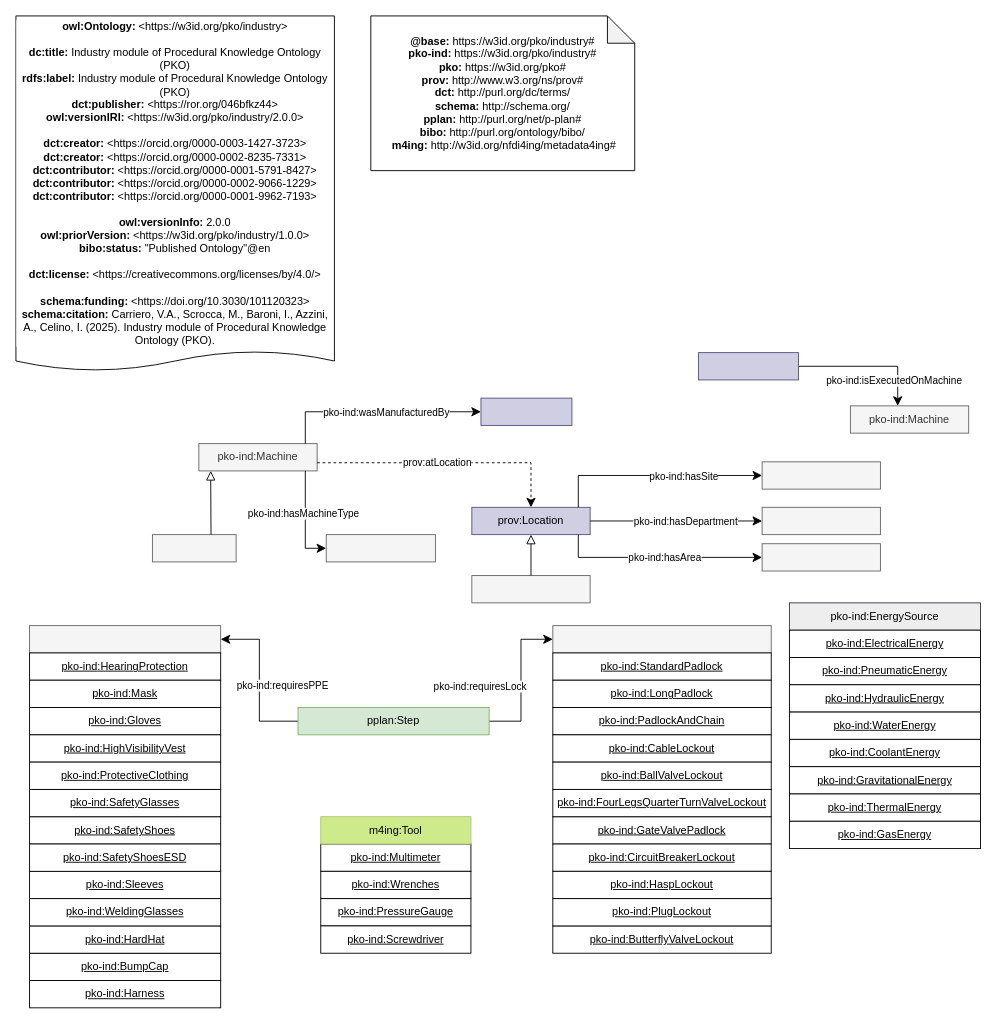
This 996x1024 diagram has some shape labels left out. The shapes that lost their labels are listed below. From the top down, each one's box as (x1, y1, x2, y2) in pixels, then its label:
(698, 352, 799, 380): prov:Activity
(480, 397, 572, 425): prov:Agent
(761, 461, 880, 489): pko-ind:Site
(761, 506, 880, 535): pko-ind:Department
(152, 534, 236, 562): pko-ind:Device
(325, 534, 435, 562): pko-ind:MachineType
(761, 543, 880, 571): pko-ind:Area
(471, 575, 590, 603): pko-ind:Factory
(29, 625, 221, 653): pko-ind:PersonalProtectiveEquipment
(552, 625, 771, 653): pko-ind:Lock
